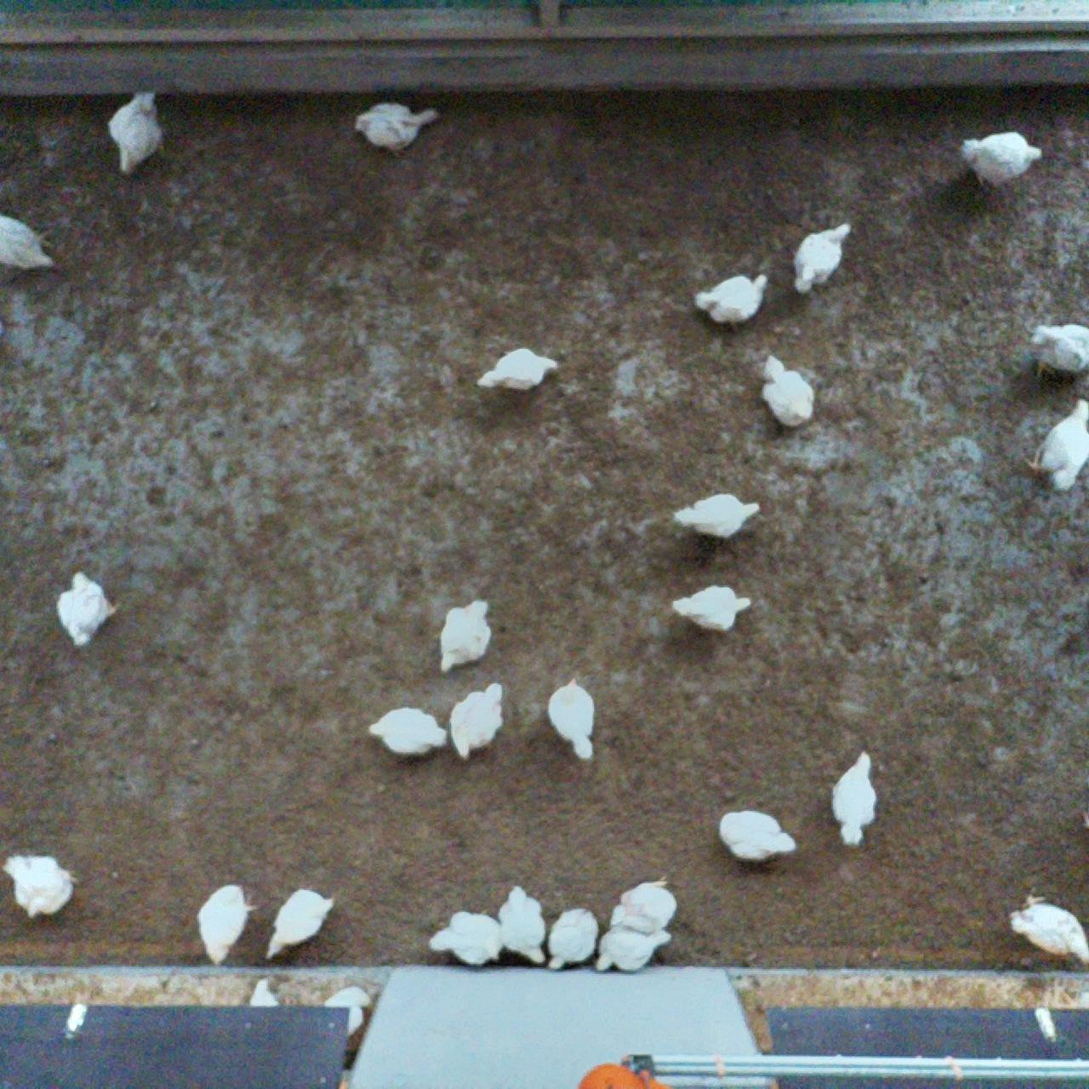chicken: (1019, 395, 1089, 493), (1009, 889, 1089, 967), (103, 86, 170, 178), (2, 847, 81, 924), (259, 886, 337, 961), (352, 95, 443, 157), (827, 747, 879, 853), (959, 128, 1045, 191), (757, 349, 820, 434), (431, 594, 494, 679), (193, 879, 252, 968), (670, 489, 764, 544), (445, 680, 507, 763), (56, 565, 119, 646), (788, 221, 855, 296), (426, 908, 507, 967), (605, 872, 679, 936), (475, 341, 562, 395), (694, 268, 768, 331), (548, 673, 599, 764), (364, 703, 446, 759), (589, 924, 671, 978), (717, 809, 797, 864), (669, 580, 751, 631), (0, 207, 58, 275), (1025, 318, 1089, 379), (497, 884, 543, 966), (546, 905, 601, 971), (322, 978, 377, 1039), (245, 978, 283, 1011)
